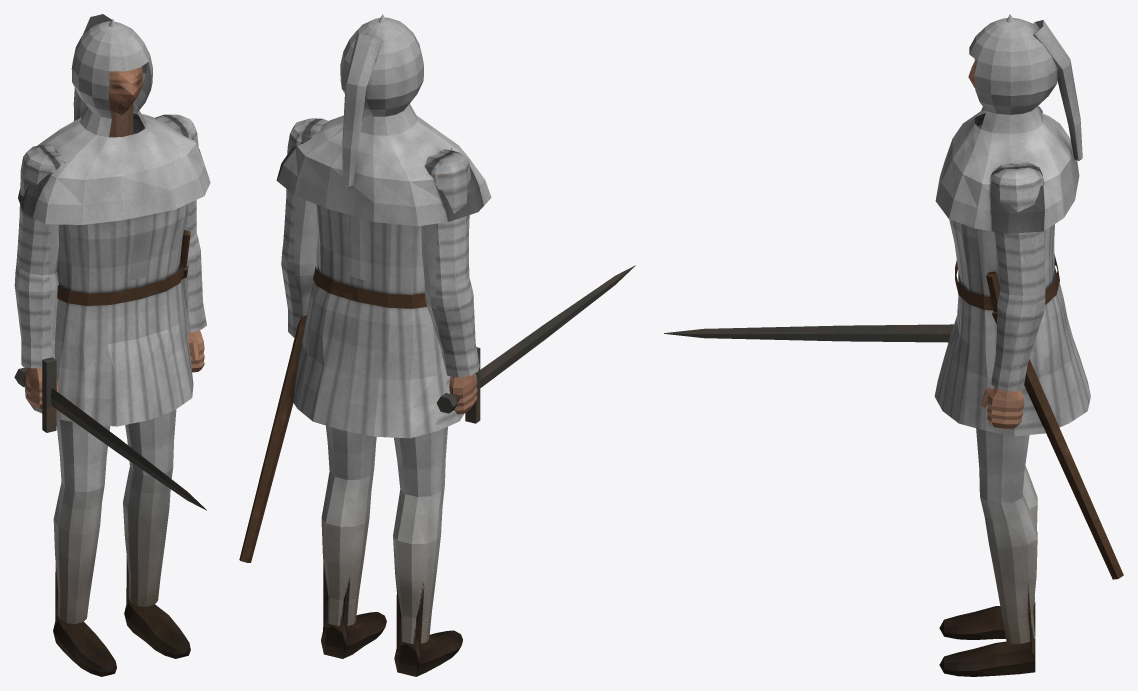
File: scouts.glb
3 views of the same model, side by side, from view 1: azimuth 30°, elevation 25°; view 2: azimuth 150°, elevation 25°; view 3: azimuth 270°, elevation 25° (orthographic). The views are drawn at different scales.
Visible parts, largest first — view 1: scouts_LOD0; view 2: scouts_LOD0; view 3: scouts_LOD0.
Boxes of the visible parts, x1,y1,x2,y2 form: scouts_LOD0: (14, 14, 210, 676); scouts_LOD0: (239, 14, 635, 676); scouts_LOD0: (664, 14, 1123, 676).
Size of what is drawn, in the model's own units: 0.544 by 1.78 by 1.16.
Materials: 1 (1 with a texture image).
